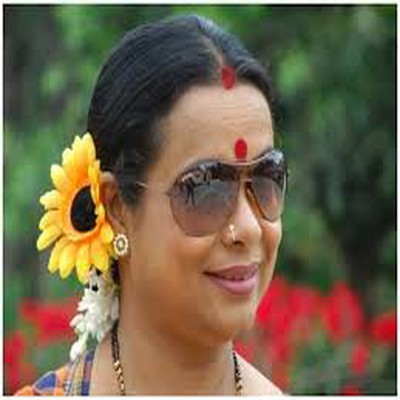eywear: (148, 129, 326, 235)
